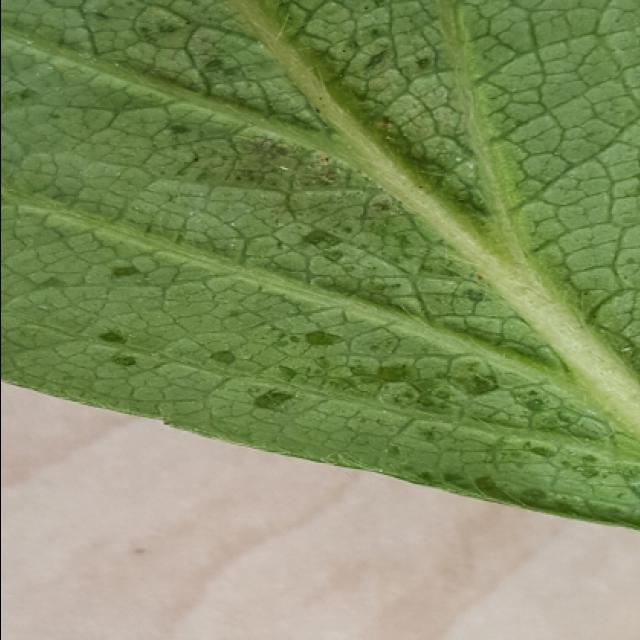Angular Leafspot: (7, 2, 640, 530)
